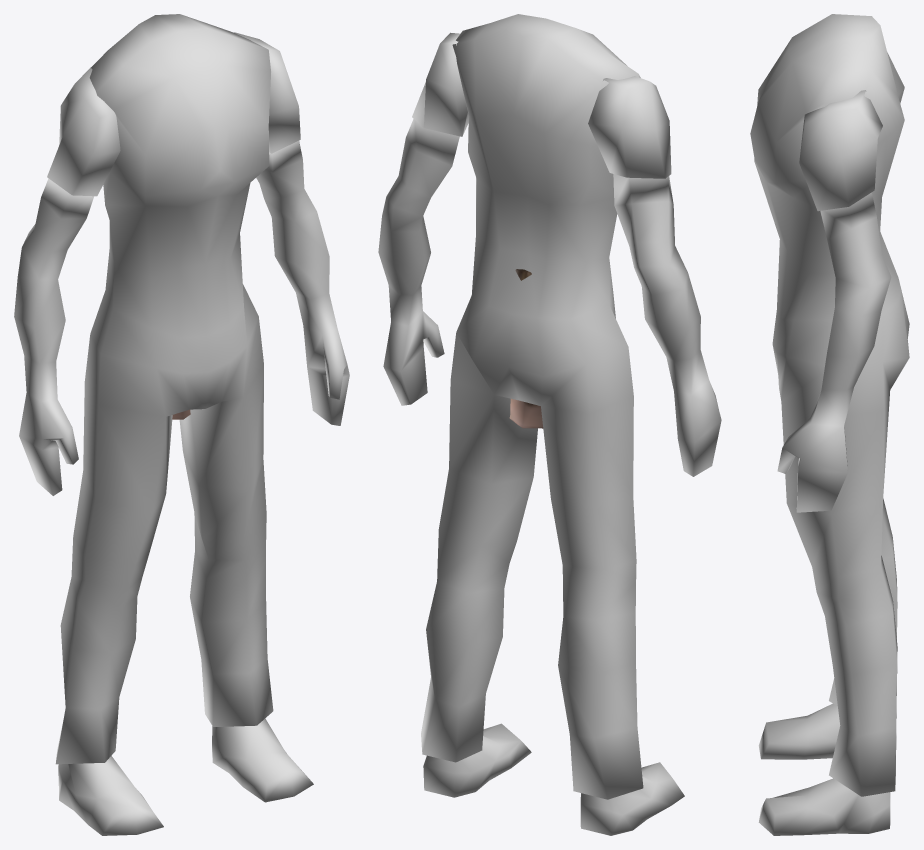
The model's file is First Passenger Test.fbx.
3 renders of one model, left to right at view 1: azimuth 30°, elevation 25°; view 2: azimuth 150°, elevation 25°; view 3: azimuth 270°, elevation 25°, orthographic. The views are drawn at different scales.
Parts seen in each view (by area): view 1: Object_7; view 2: Object_7, Cube.001; view 3: Object_7.
Boxes of the visible parts, <box> form: Object_7: <box>14,14,349,835</box>; Object_7: <box>378,14,721,835</box>; Cube.001: <box>509,269,543,428</box>; Object_7: <box>750,14,909,835</box>.
Size of the model in its own units: 1.82 by 4.28 by 0.8138.
